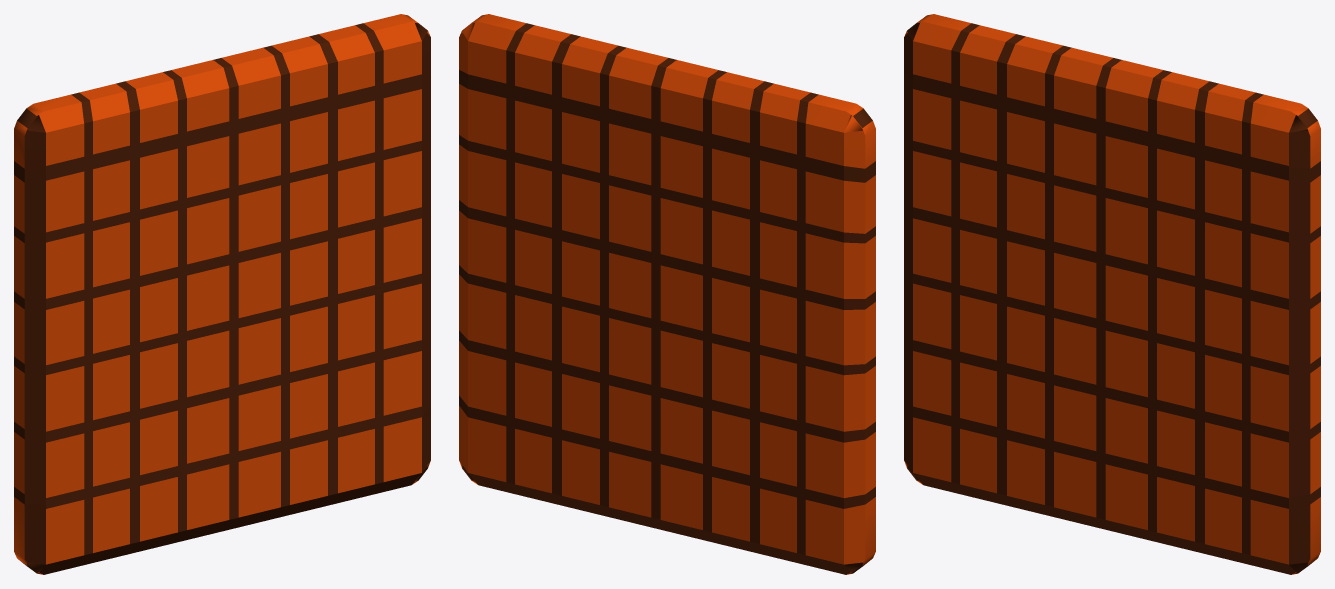
The model's file is COKELET.FBX.
3 renders of one model, left to right at view 1: azimuth 30°, elevation 25°; view 2: azimuth 150°, elevation 25°; view 3: azimuth 330°, elevation 25°, orthographic.
Parts seen in each view (by area): view 1: Box002; view 2: Box002; view 3: Box002.
Boxes of the visible parts, x1=… form: Box002: x1=14, y1=14, x2=430, y2=574; Box002: x1=459, y1=14, x2=875, y2=574; Box002: x1=904, y1=14, x2=1320, y2=574.
Bounding box in the file's own units: 158 × 173 × 15.47.
